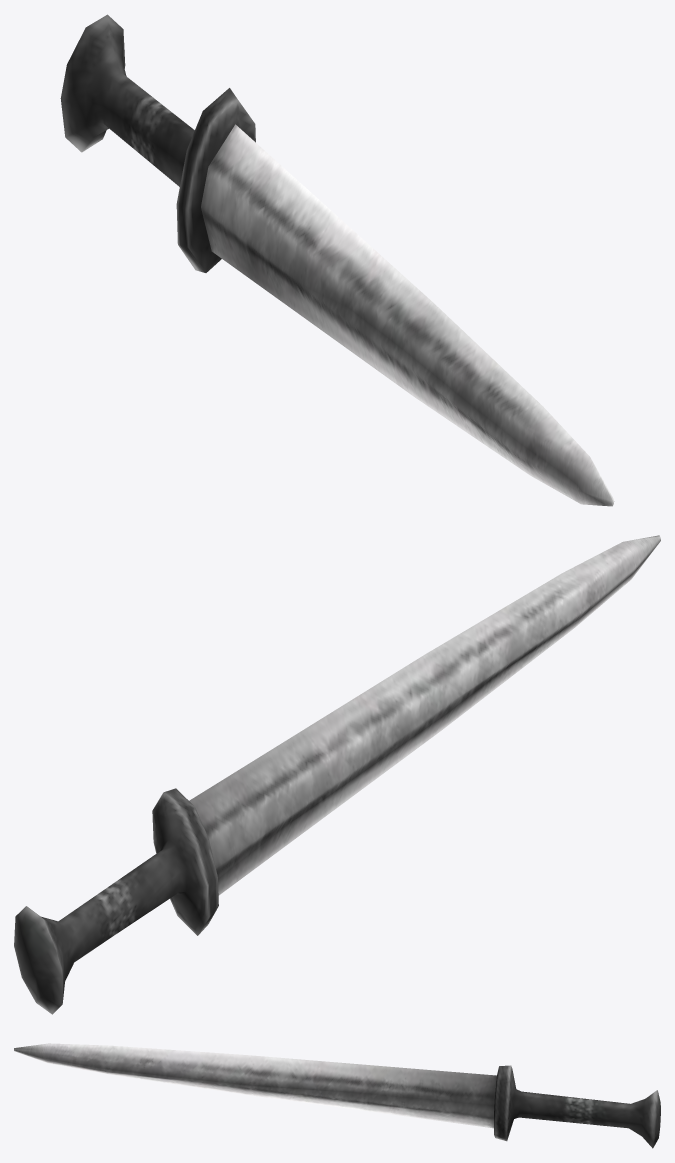
Rendered from rider-weapon-slice-copperweapons.glb.
3 views of the same model, one above another, from view 1: azimuth 30°, elevation 25°; view 2: azimuth 150°, elevation 25°; view 3: azimuth 270°, elevation 25° (orthographic). The views are drawn at different scales.
Bounding box in the file's own units: 0.1358 × 0.1416 × 0.9741.
1 material, 1 textured.
